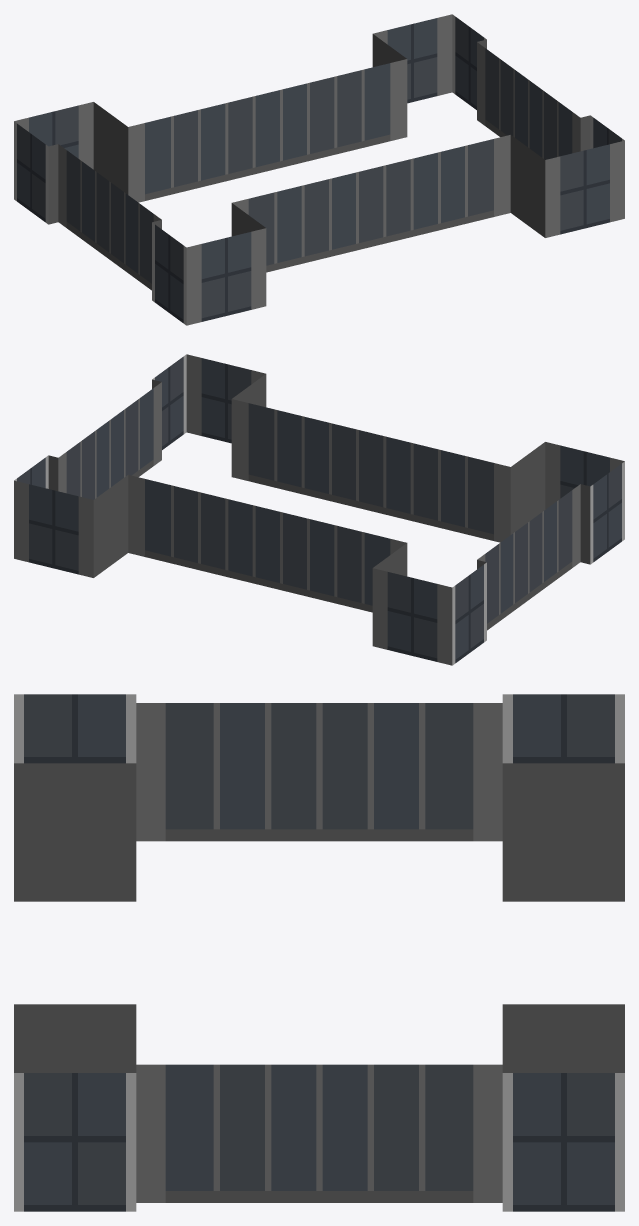
Rendered from TB_CITY_Skysc_K_BodyC_Gray.FBX.
3 views of the same model, one above another, from view 1: azimuth 30°, elevation 25°; view 2: azimuth 150°, elevation 25°; view 3: azimuth 270°, elevation 25° (orthographic). The views are drawn at different scales.
Visible parts, largest first — view 1: TB_CITY_Skysc_K_BodyC_Gray; view 2: TB_CITY_Skysc_K_BodyC_Gray; view 3: TB_CITY_Skysc_K_BodyC_Gray.
Part boxes in pixels (x1,y1,x2,y2): TB_CITY_Skysc_K_BodyC_Gray: (14, 14, 624, 325); TB_CITY_Skysc_K_BodyC_Gray: (14, 354, 624, 665); TB_CITY_Skysc_K_BodyC_Gray: (14, 694, 624, 1211).
Bounding box in the file's own units: 44 × 7.5 × 30.
